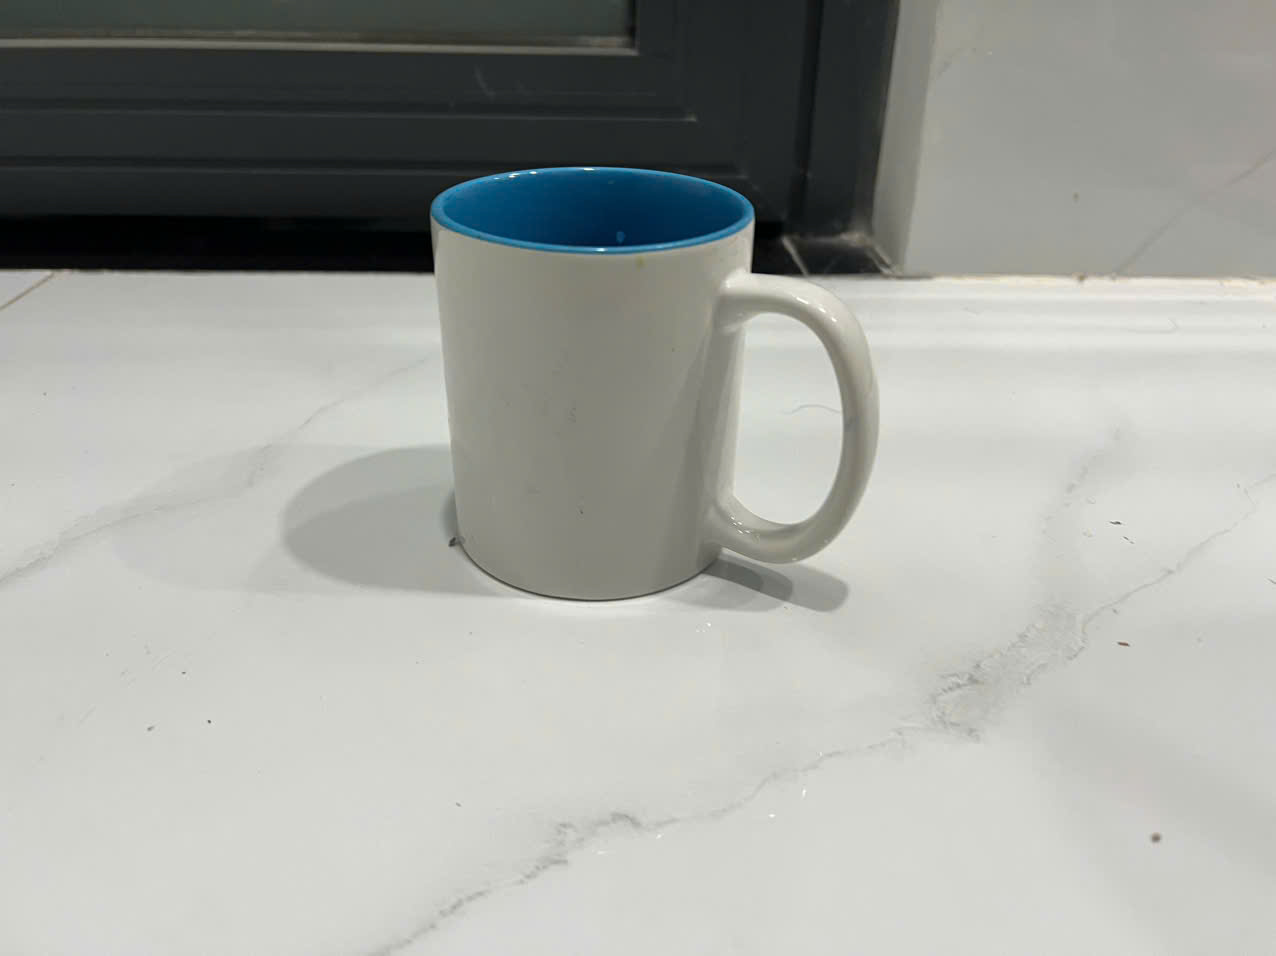ly coc: (407, 154, 884, 601)
